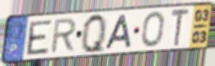A: (104, 14, 133, 51)
E: (26, 19, 54, 57)
O: (141, 10, 166, 48)
Q: (81, 12, 107, 55)
R: (49, 17, 79, 55)
T: (170, 8, 191, 48)
